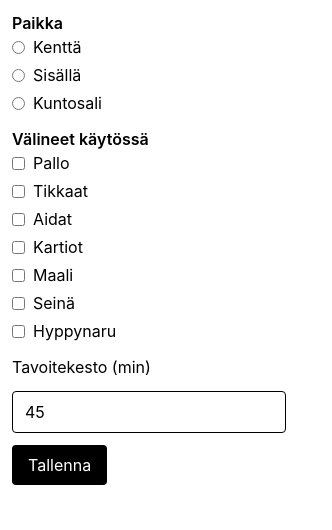
Test: SessionSettingsForm › keeps no place chosen when none was sent
The image size is (332, 530).
Click the button "Tallenna" at [60, 465], box [12,445,107,485]
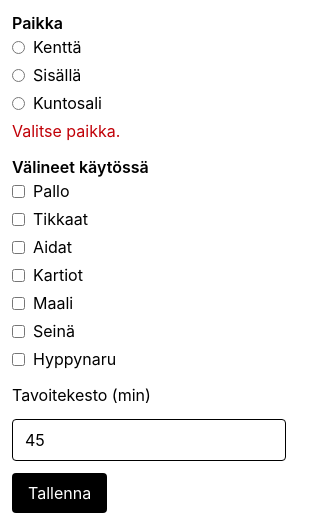
Expected: the radio button labelled "Kenttä" is not checked, [12,40,25,54]
Expected: the message reads "Valitse paikka.", [12,121,120,141]
